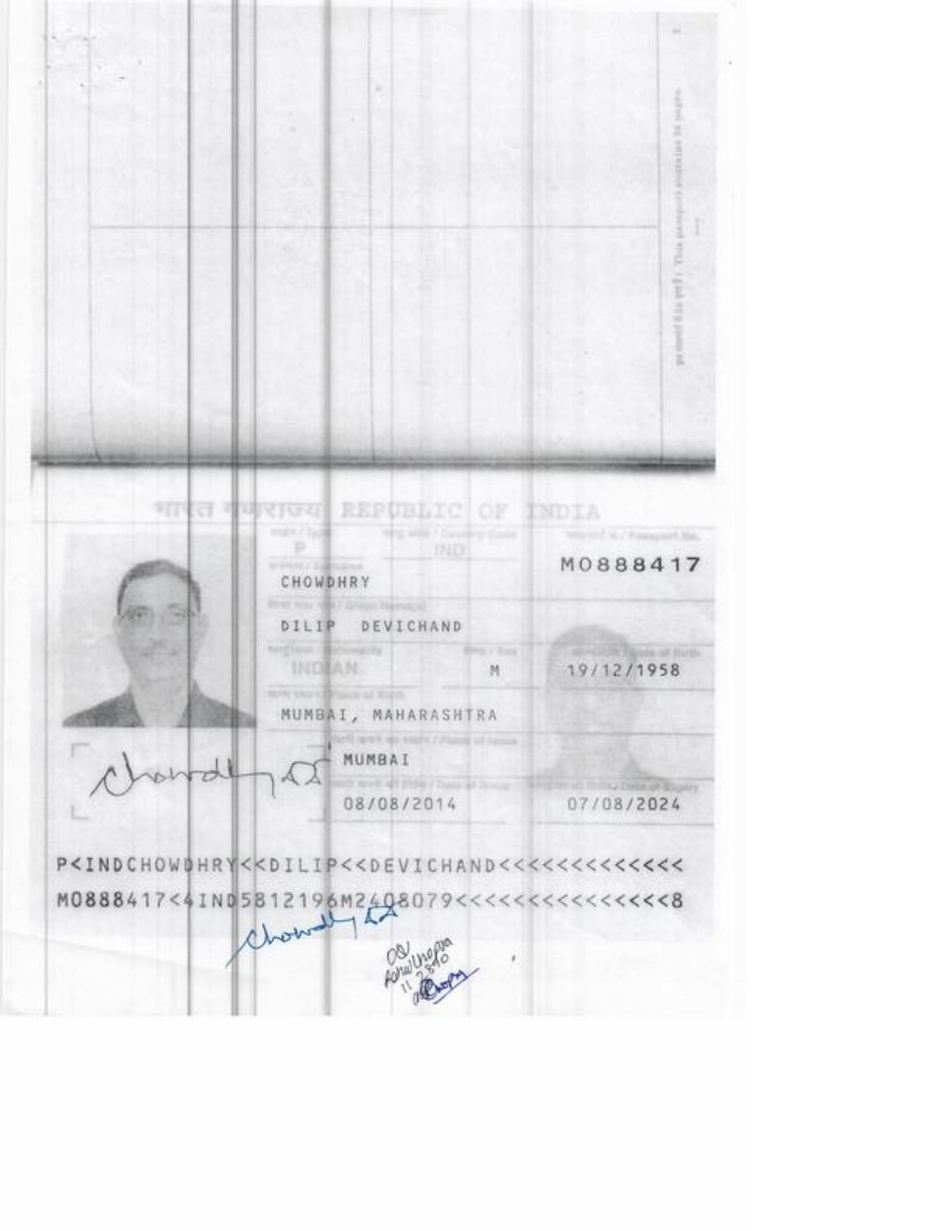DOB: (551, 655, 690, 687)
Surname: (273, 569, 375, 598)
country_code: (421, 539, 492, 563)
date_of_expiry: (552, 789, 691, 820)
date_of_issue: (336, 789, 465, 830)
details: (45, 845, 697, 919)
name: (263, 612, 477, 643)
nationality: (276, 651, 378, 685)
passport_no: (546, 546, 710, 581)
photo: (71, 536, 251, 721)
place_of_birth: (273, 702, 508, 733)
place_of_issue: (337, 747, 417, 779)
sex: (472, 654, 519, 689)
sign: (92, 746, 310, 815)
type: (279, 535, 327, 562)
